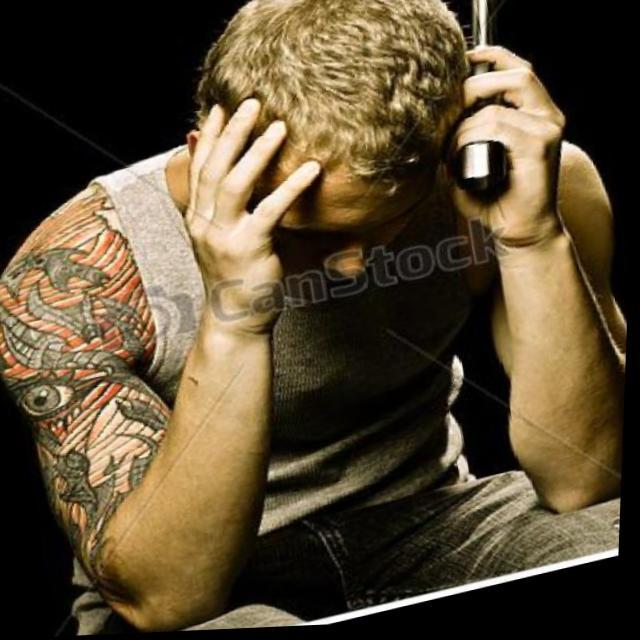weapon: (419, 0, 533, 207)
